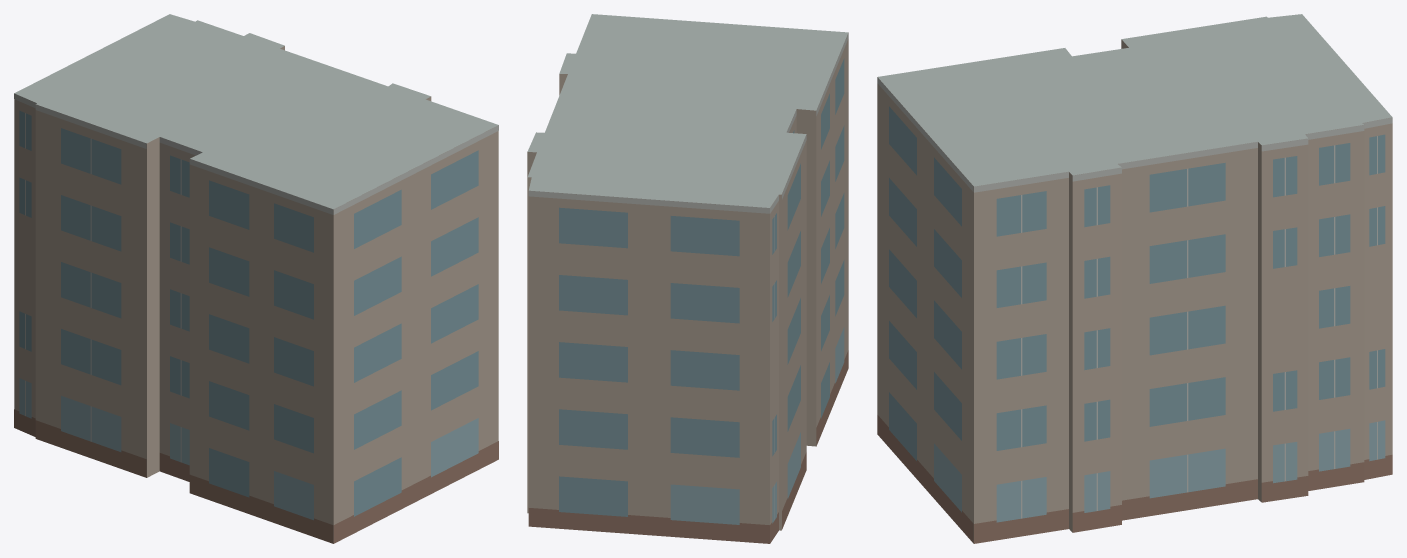
Rendered from survey-upis-32524719.glb.
The picture shows the model from 3 angles, left to right: view 1: azimuth 30°, elevation 25°; view 2: azimuth 150°, elevation 25°; view 3: azimuth 270°, elevation 25°; orthographic projection. The views are drawn at different scales.
Visible parts, largest first — view 1: survey-upis-32524719.tmp; view 2: survey-upis-32524719.tmp; view 3: survey-upis-32524719.tmp.
Part boxes in pixels (x1=…): survey-upis-32524719.tmp: x1=14, y1=14, x2=498, y2=543; survey-upis-32524719.tmp: x1=527, y1=14, x2=848, y2=543; survey-upis-32524719.tmp: x1=877, y1=14, x2=1392, y2=543.
Bounding box in the file's own units: 14.72 × 14.2 × 18.57.
